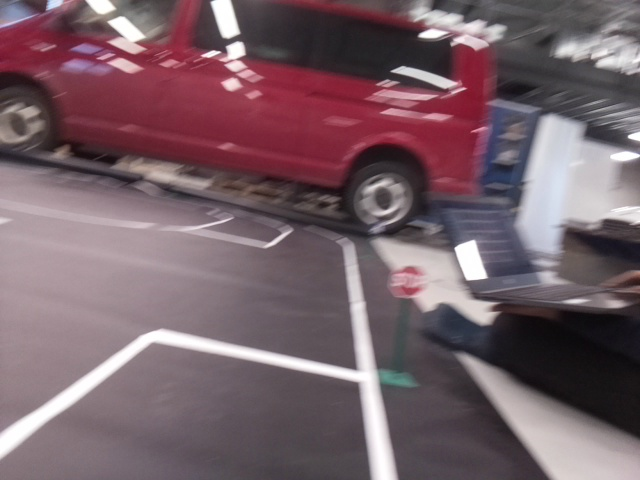Stop: (390, 260, 424, 301)
